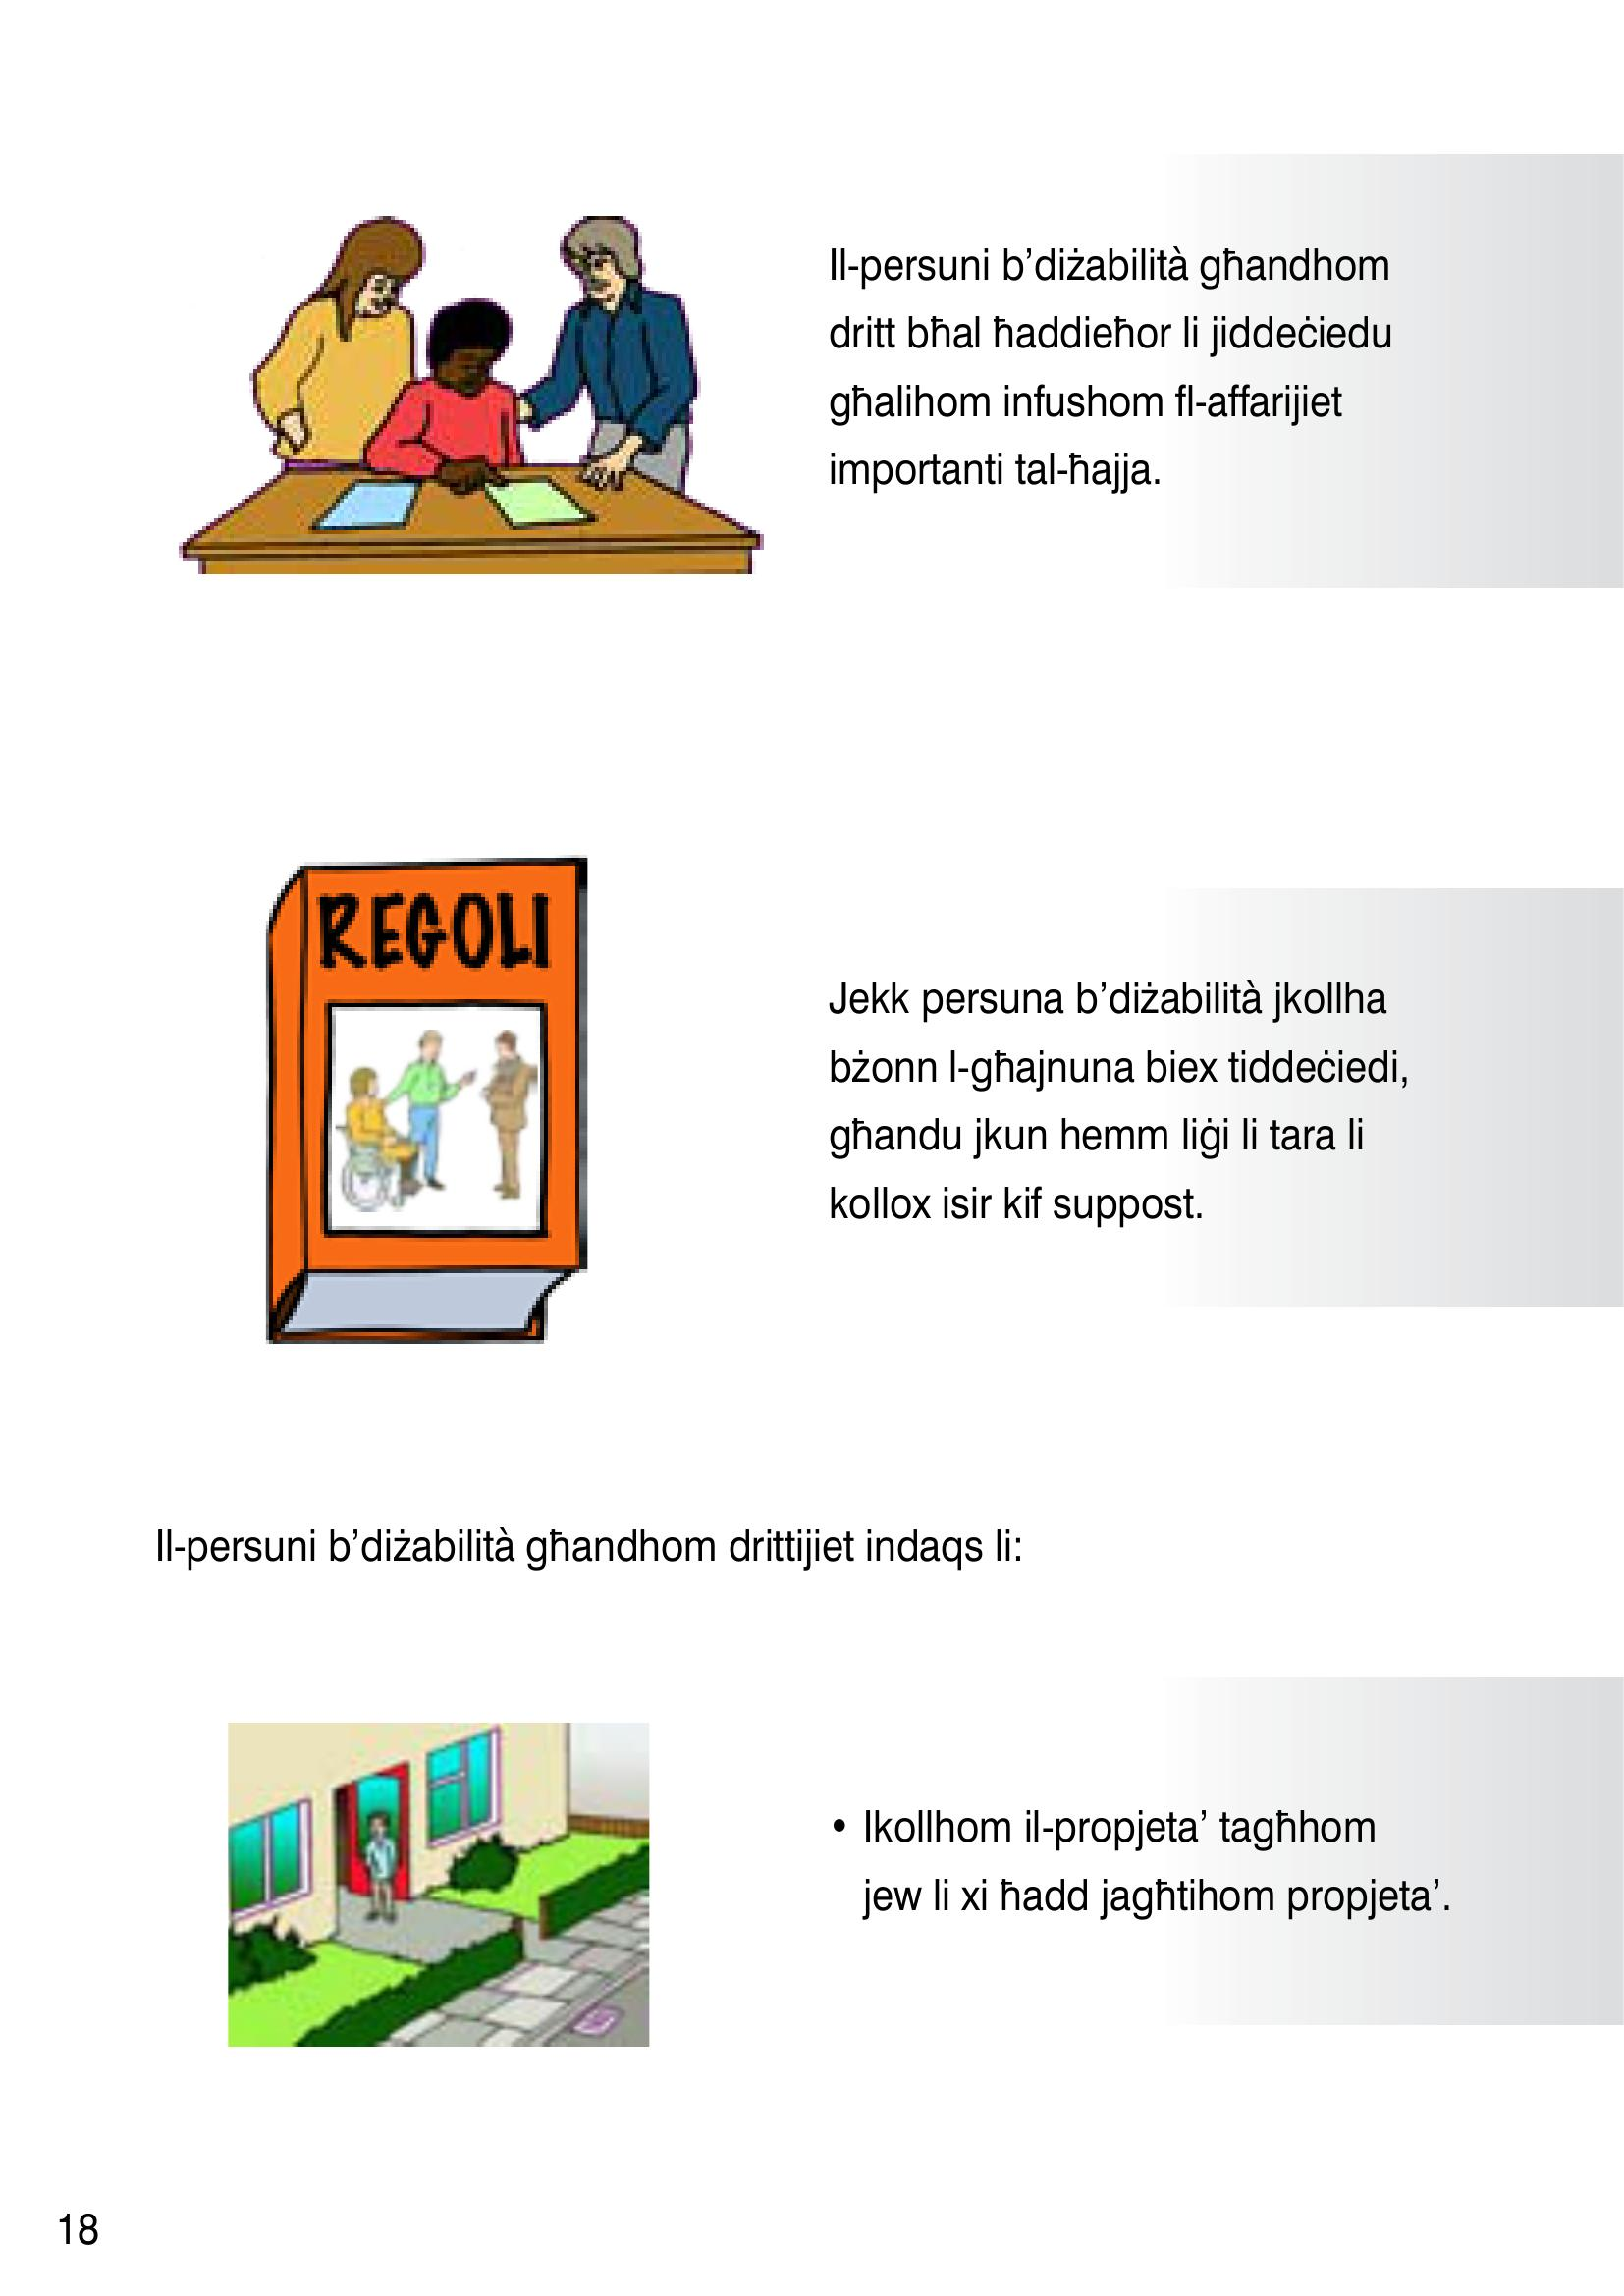text: (808, 223, 1446, 1267), (808, 1776, 1475, 1946), (128, 1498, 1076, 1609)
